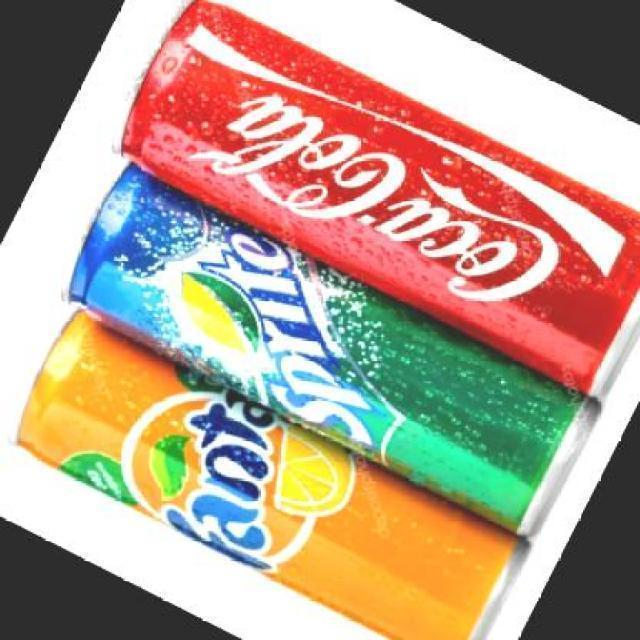can: (110, 0, 640, 402), (58, 159, 606, 542), (10, 302, 530, 640)
